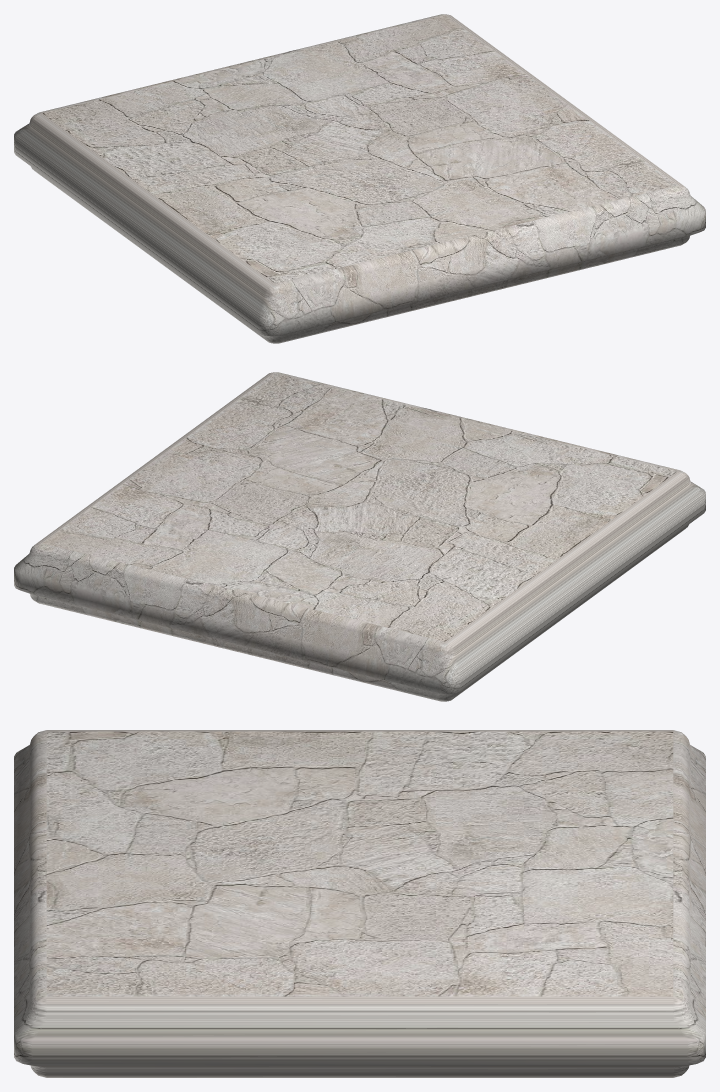
Rendered from sssseda.glb.
3 renders of one model, top to bottom at view 1: azimuth 30°, elevation 25°; view 2: azimuth 150°, elevation 25°; view 3: azimuth 270°, elevation 25°, orthographic. The views are drawn at different scales.
Visible parts, largest first — view 1: Plane; view 2: Plane; view 3: Plane.
Part boxes in pixels (x1,y1,x2,y2): Plane: (14, 14, 705, 343); Plane: (14, 372, 705, 701); Plane: (14, 730, 705, 1077).
Size of the model in its own units: 2.09 by 0.2659 by 2.09.
1 material, 1 textured.
